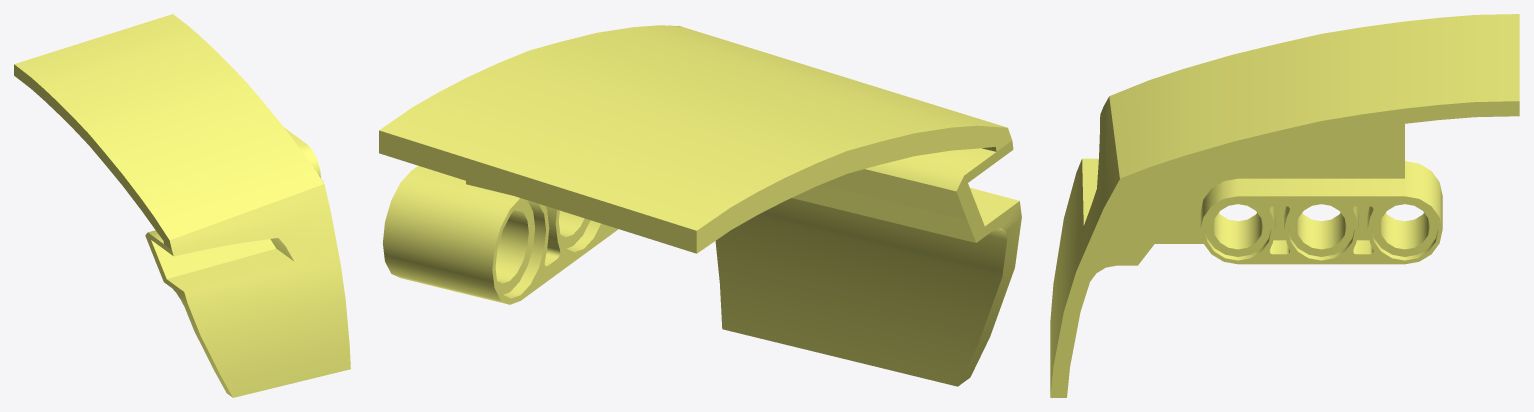
3 renders of one model, left to right at view 1: azimuth 30°, elevation 25°; view 2: azimuth 150°, elevation 25°; view 3: azimuth 270°, elevation 25°, orthographic. The views are drawn at different scales.
Parts seen in each view (by area): view 1: 61071.dat; view 2: 61071.dat; view 3: 61071.dat.
Part boxes in pixels (bbox=[...]): 61071.dat: bbox=[14, 14, 350, 397]; 61071.dat: bbox=[379, 25, 1021, 386]; 61071.dat: bbox=[1050, 14, 1519, 397].
Size of the model in its own units: 0.0272 by 0.0314 by 0.045.
